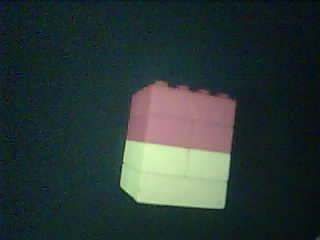lego: (120, 81, 238, 210)
